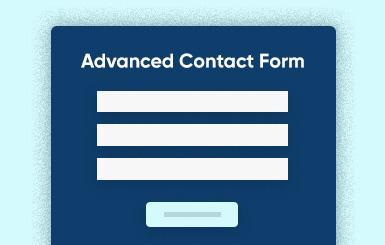button: (147, 203, 239, 228)
input: (98, 159, 289, 181), (98, 92, 289, 113), (99, 126, 289, 147)
label: (78, 52, 311, 75)
